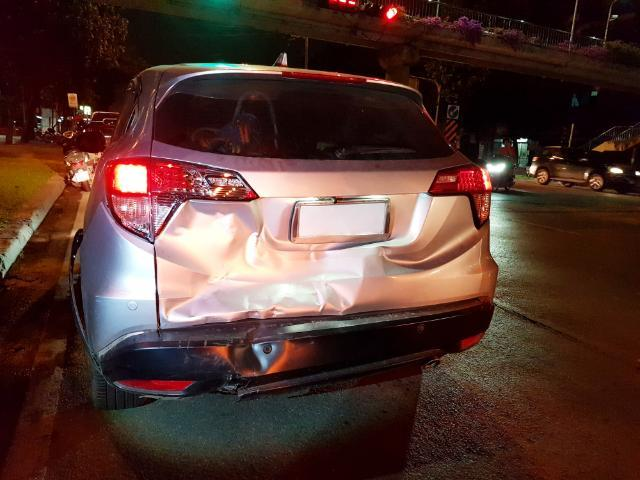dent: (165, 202, 367, 322), (214, 325, 281, 373)
lamp broken: (109, 156, 259, 240)
